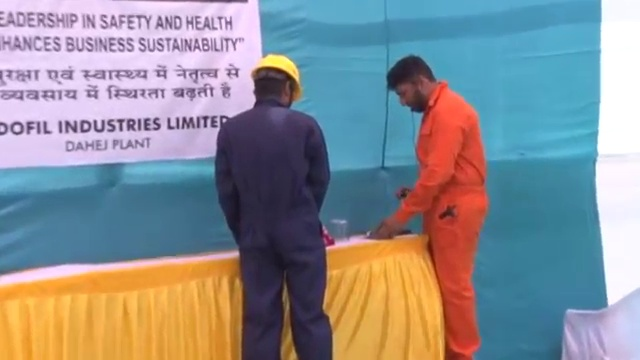helmet: (251, 54, 303, 99)
helmet_off: (383, 55, 447, 116)
helmet_on: (250, 53, 303, 111)
person: (213, 54, 335, 360), (376, 54, 488, 360)
